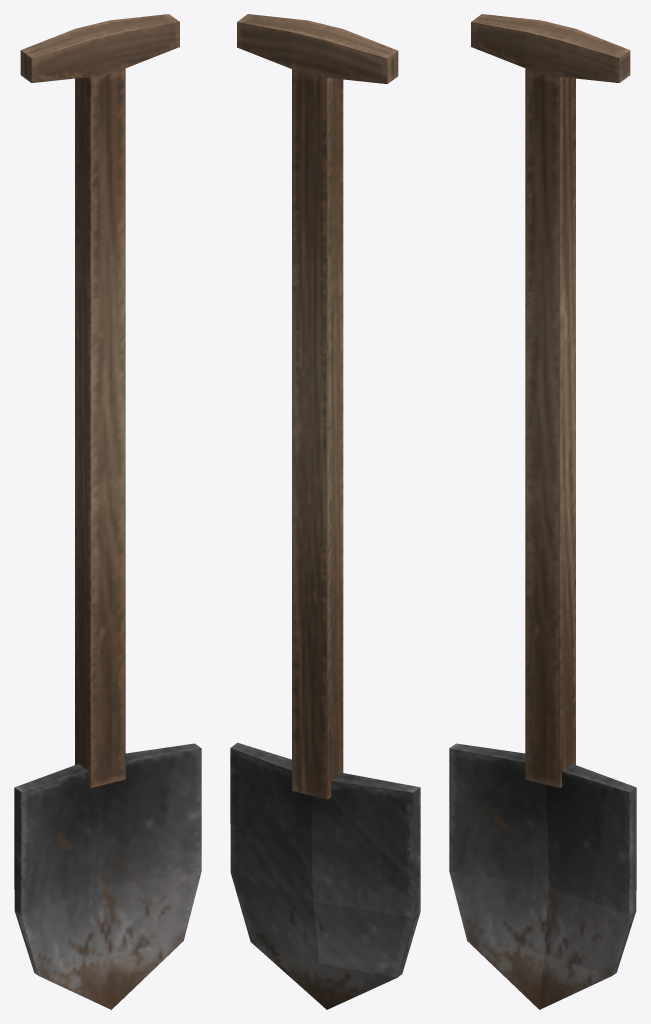
Rendered from Shovel.fbx.
The picture shows the model from 3 angles, left to right: view 1: azimuth 30°, elevation 25°; view 2: azimuth 150°, elevation 25°; view 3: azimuth 330°, elevation 25°; orthographic projection.
Visible parts, largest first — view 1: Shovel; view 2: Shovel; view 3: Shovel.
Part boxes in pixels (box(x1,y1,x2,y2)): Shovel: box(14, 14, 201, 1009); Shovel: box(230, 14, 420, 1009); Shovel: box(449, 14, 636, 1009).
Size of the model in its own units: 23.62 by 122 by 4.31.
